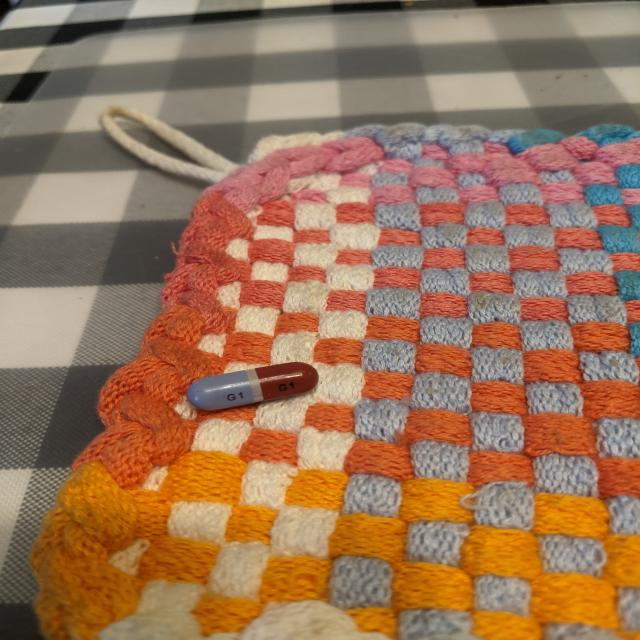non-organic waste: (185, 360, 322, 412)
